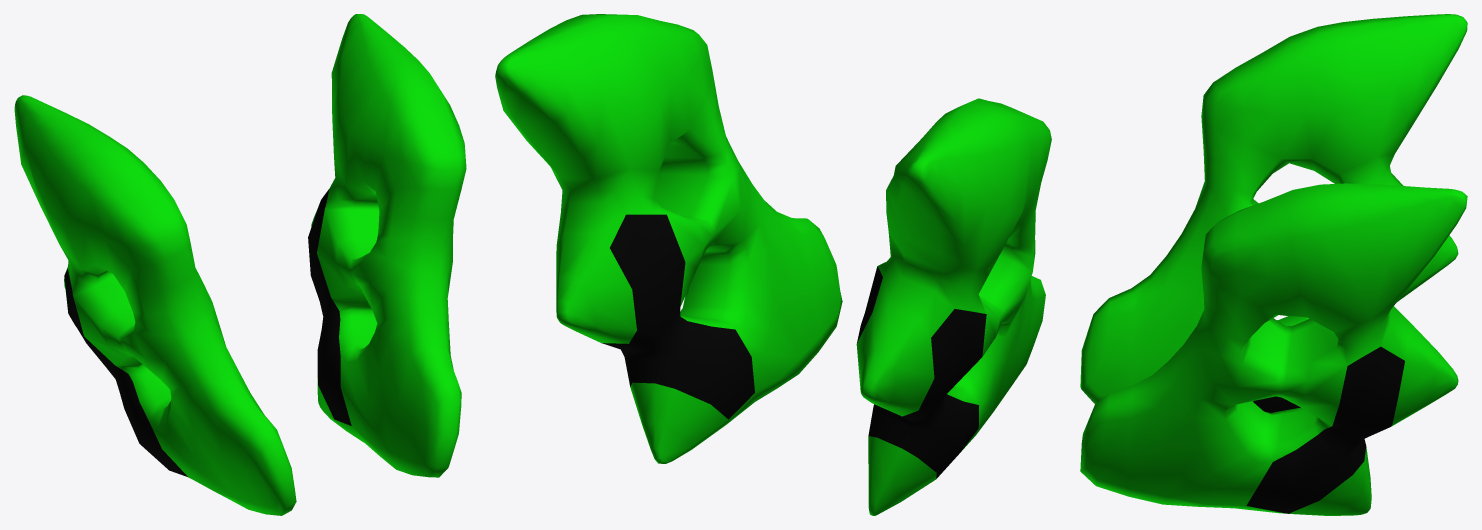
The model's file is S00_Reptile06_L2_Back.glb.
3 views of the same model, side by side, from view 1: azimuth 30°, elevation 25°; view 2: azimuth 150°, elevation 25°; view 3: azimuth 270°, elevation 25° (orthographic). The views are drawn at different scales.
Visible parts, largest first — view 1: S00_Reptile06_L2_Back__Back_M__surface0__lod0; view 2: S00_Reptile06_L2_Back__Back_M__surface0__lod0; view 3: S00_Reptile06_L2_Back__Back_M__surface0__lod0.
Part boxes in pixels (left/top/right/bottom): S00_Reptile06_L2_Back__Back_M__surface0__lod0: left=14, top=14, right=466, bottom=515; S00_Reptile06_L2_Back__Back_M__surface0__lod0: left=495, top=14, right=1051, bottom=515; S00_Reptile06_L2_Back__Back_M__surface0__lod0: left=1080, top=14, right=1467, bottom=515.
Bounding box in the file's own units: 63.49 × 54.31 × 51.75.
